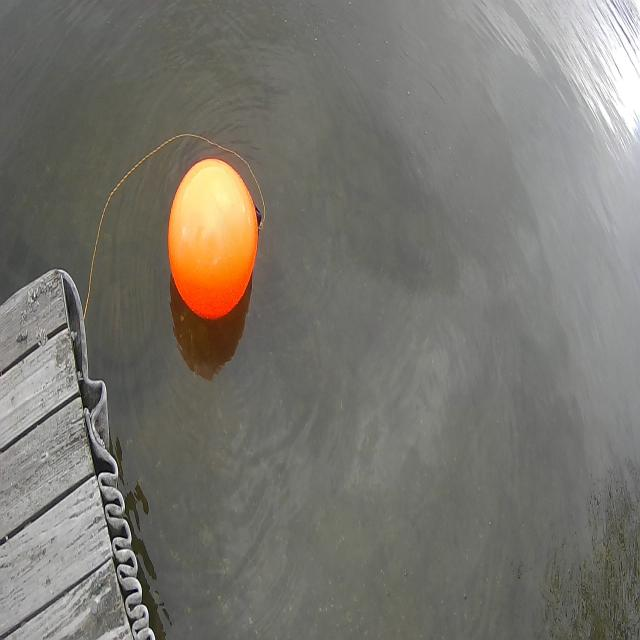Buoy: (163, 146, 261, 328)
